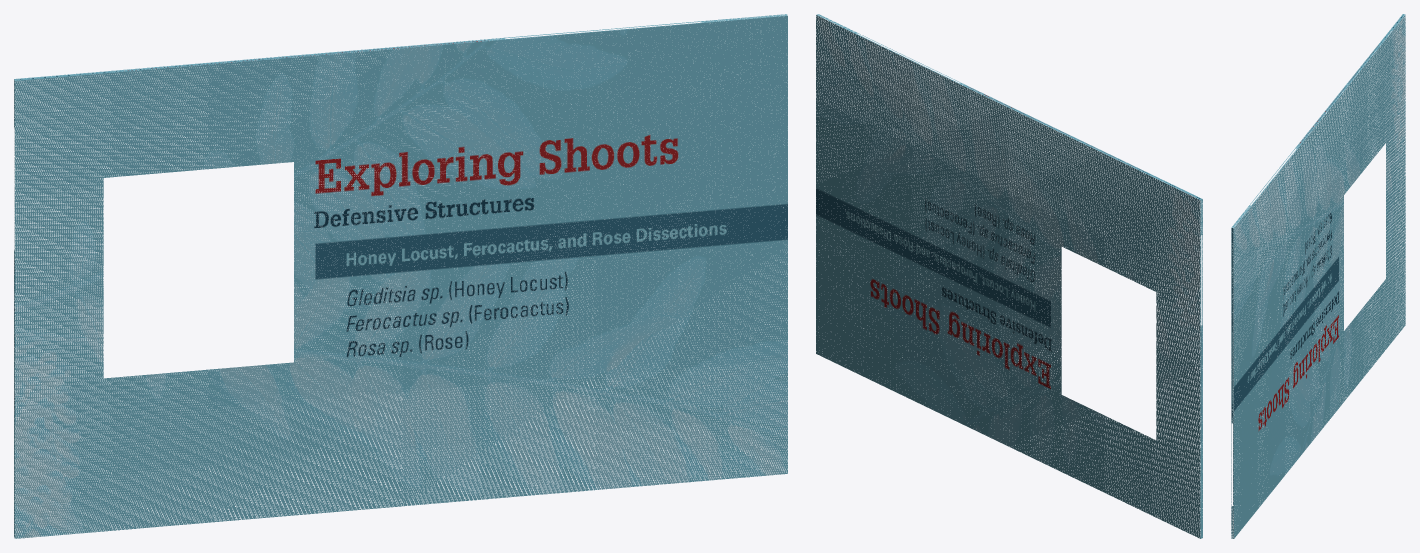
Rendered from DSSplashModel_exterior.gltf.
3 views of the same model, side by side, from view 1: azimuth 30°, elevation 25°; view 2: azimuth 150°, elevation 25°; view 3: azimuth 270°, elevation 25° (orthographic). The views are drawn at different scales.
Visible parts, largest first — view 1: splashscreenglb; view 2: splashscreenglb; view 3: splashscreenglb.
Part boxes in pixels (left/top/right/bottom): splashscreenglb: left=14, top=14, right=787, bottom=538; splashscreenglb: left=816, top=14, right=1202, bottom=538; splashscreenglb: left=1231, top=14, right=1405, bottom=538.
Bounding box in the file's own units: 1.48 × 1 × 0.5094.
Materials: 1 (1 with a texture image).
